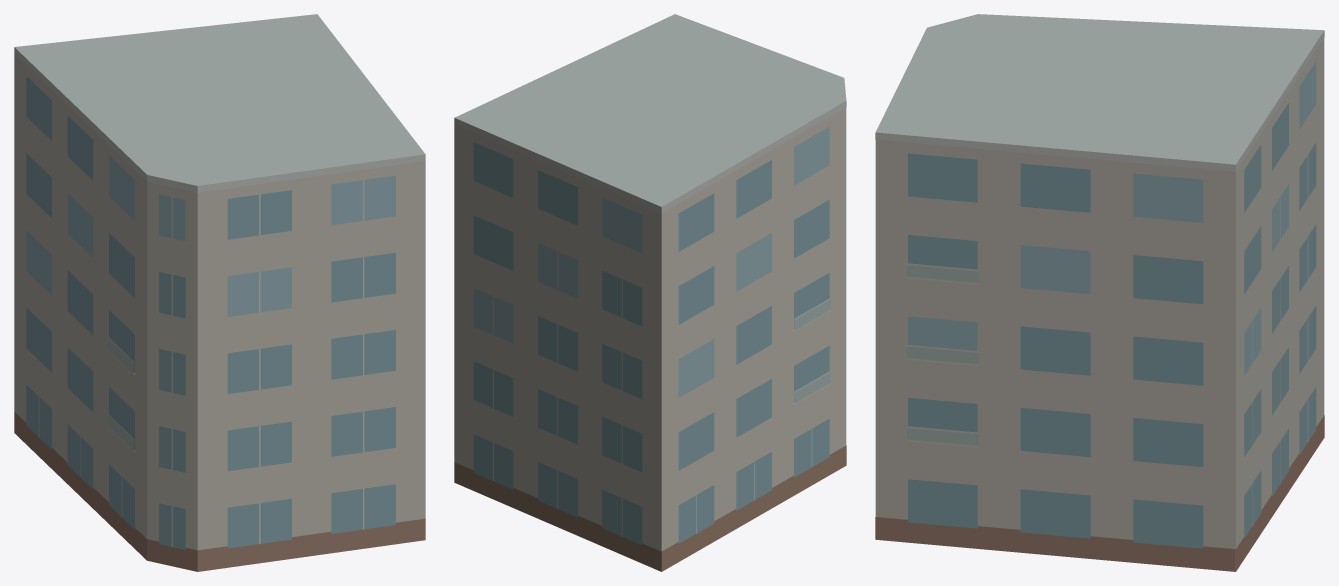
File: survey-upis-32837148.glb
3 renders of one model, left to right at view 1: azimuth 30°, elevation 25°; view 2: azimuth 150°, elevation 25°; view 3: azimuth 270°, elevation 25°, orthographic. The views are drawn at different scales.
Parts seen in each view (by area): view 1: survey-upis-32837148.tmp; view 2: survey-upis-32837148.tmp; view 3: survey-upis-32837148.tmp.
Boxes of the visible parts, x1,y1,x2,y2 form: survey-upis-32837148.tmp: (14, 14, 425, 571); survey-upis-32837148.tmp: (454, 14, 846, 571); survey-upis-32837148.tmp: (875, 14, 1324, 571).
Size of the model in its own units: 11.11 by 14 by 14.
